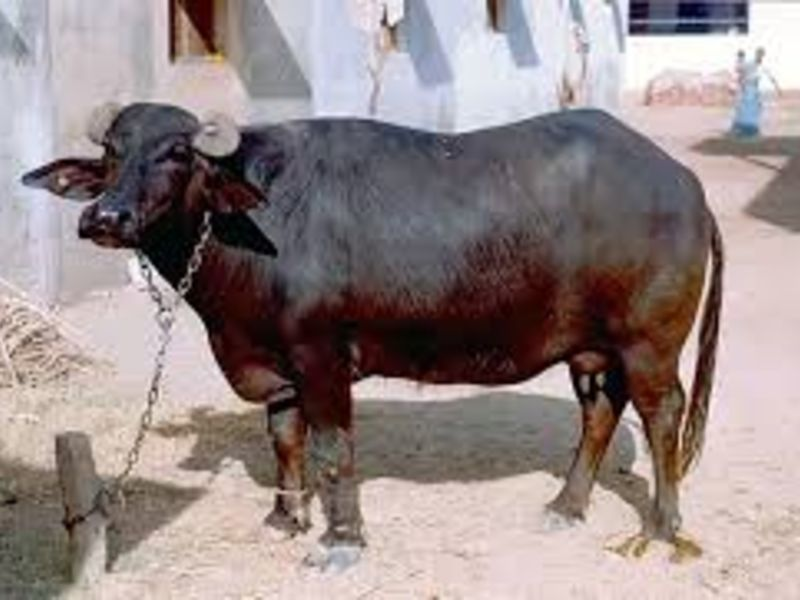buffalo: (19, 96, 729, 568)
